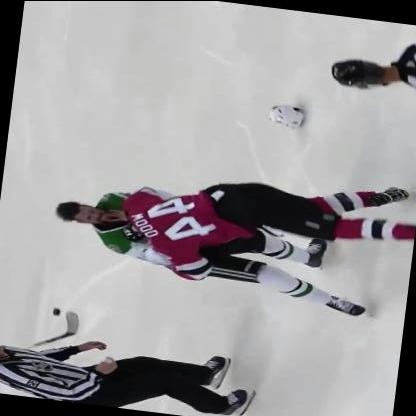non-Voilence: (0, 319, 269, 415)
voilence: (42, 164, 415, 315)
